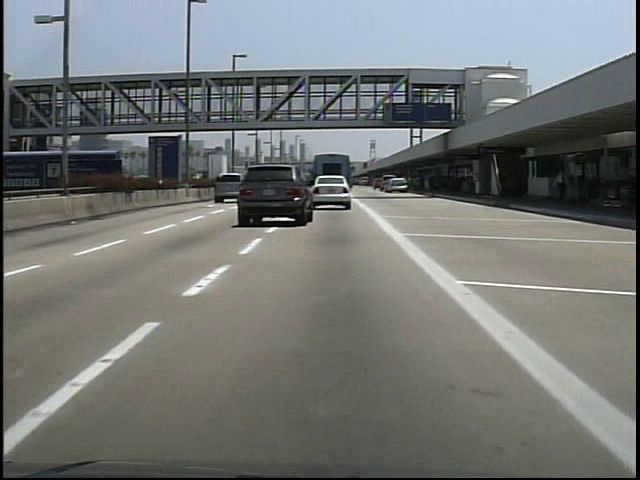person: (549, 168, 570, 208)
